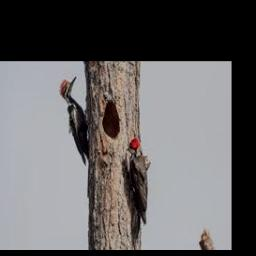Woodpecker: (59, 75, 89, 165), (126, 138, 148, 249)
